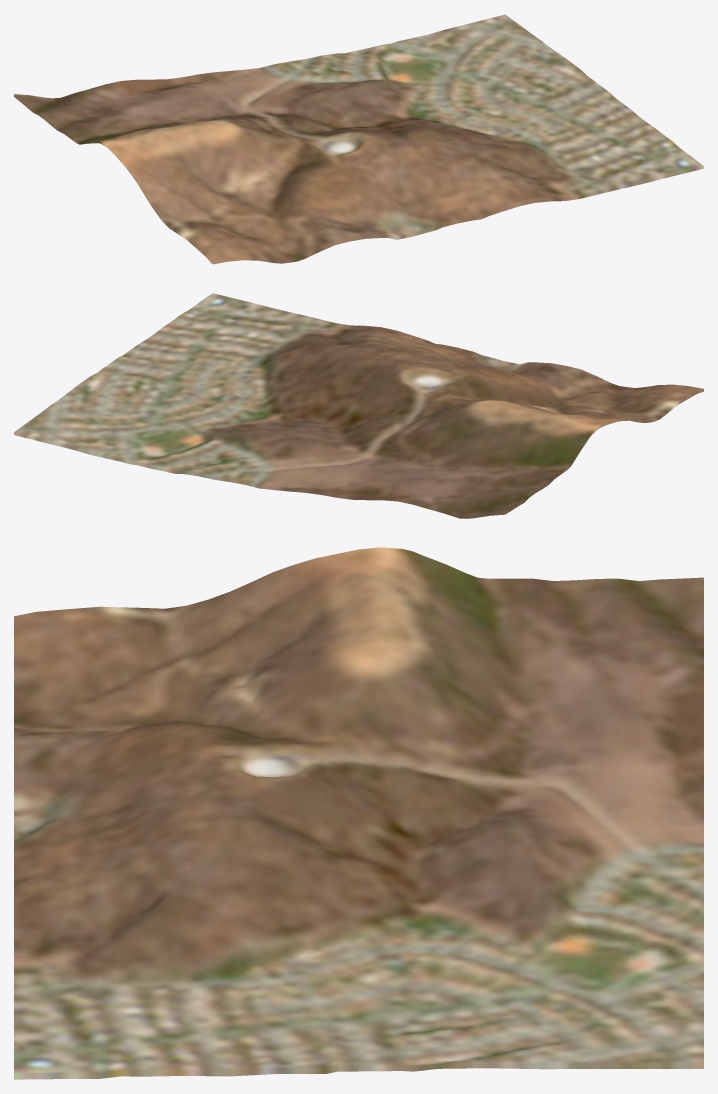
The model's file is terrain_r1_c4_lod1.glb.
3 views of the same model, one above another, from view 1: azimuth 30°, elevation 25°; view 2: azimuth 150°, elevation 25°; view 3: azimuth 270°, elevation 25° (orthographic). The views are drawn at different scales.
Parts seen in each view (by area): view 1: terrain_r1_c4_lod1; view 2: terrain_r1_c4_lod1; view 3: terrain_r1_c4_lod1.
Boxes of the visible parts, <box> form: terrain_r1_c4_lod1: <box>14,14,703,264</box>; terrain_r1_c4_lod1: <box>14,293,703,518</box>; terrain_r1_c4_lod1: <box>14,547,703,1079</box>.
Bounding box in the file's own units: 1125 × 146 × 787.
1 material, 1 textured.
